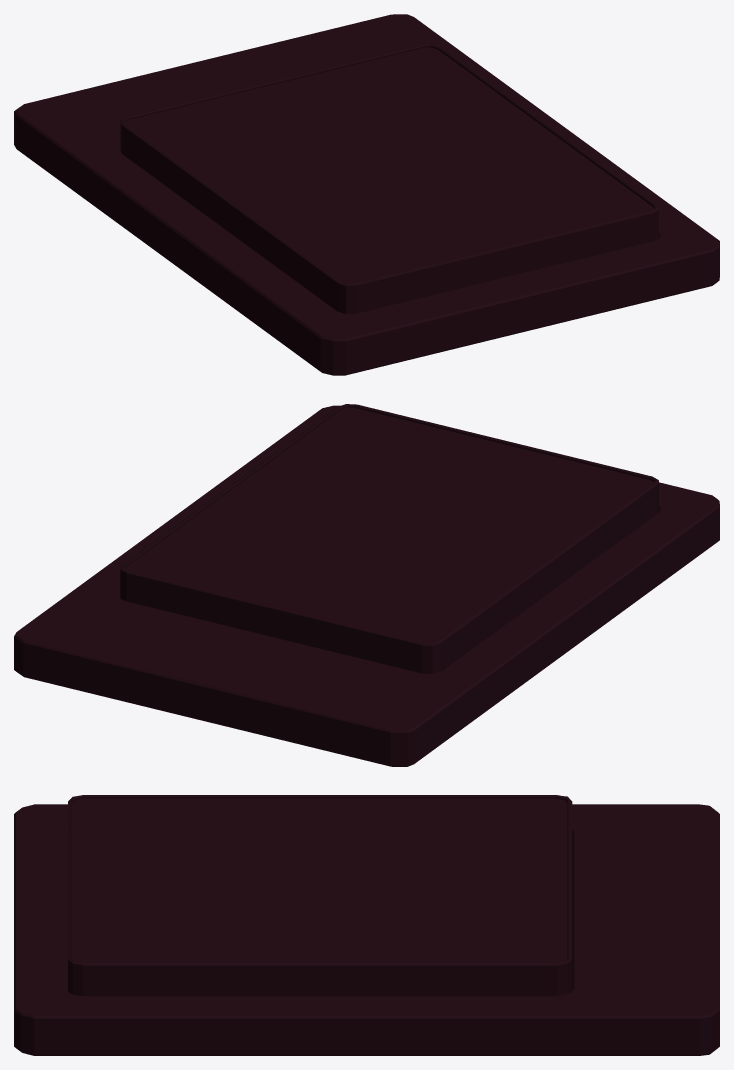
Rendered from 2_door__Material.007.obj.
3 renders of one model, top to bottom at view 1: azimuth 30°, elevation 25°; view 2: azimuth 150°, elevation 25°; view 3: azimuth 270°, elevation 25°, orthographic. The views are drawn at different scales.
Visible parts, largest first — view 1: 2_door__Material.007; view 2: 2_door__Material.007; view 3: 2_door__Material.007.
Part boxes in pixels (x1,y1,x2,y2): 2_door__Material.007: (14, 14, 719, 375); 2_door__Material.007: (14, 404, 719, 766); 2_door__Material.007: (14, 795, 719, 1055).
Size of the model in its own units: 0.1034 by 0.0165 by 0.1448.
